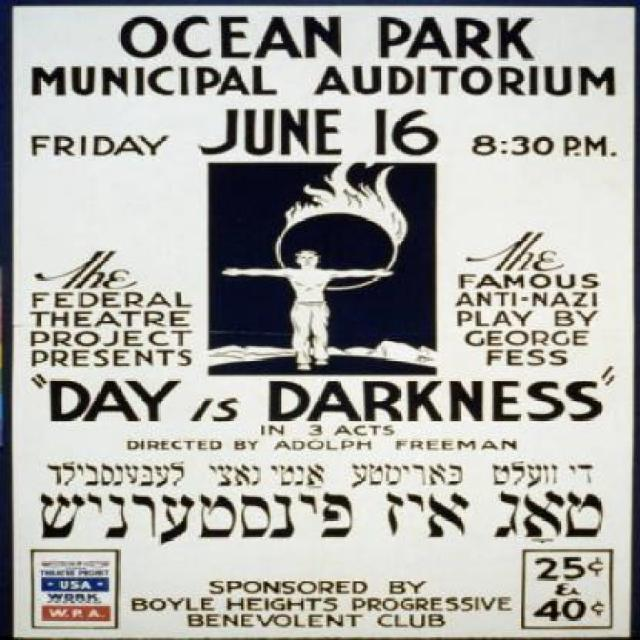Person: (220, 248, 398, 370)
